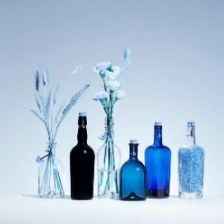bottle: (138, 120, 174, 201), (94, 110, 125, 201), (176, 119, 207, 201), (67, 109, 94, 202), (34, 136, 70, 199), (116, 140, 148, 204)
